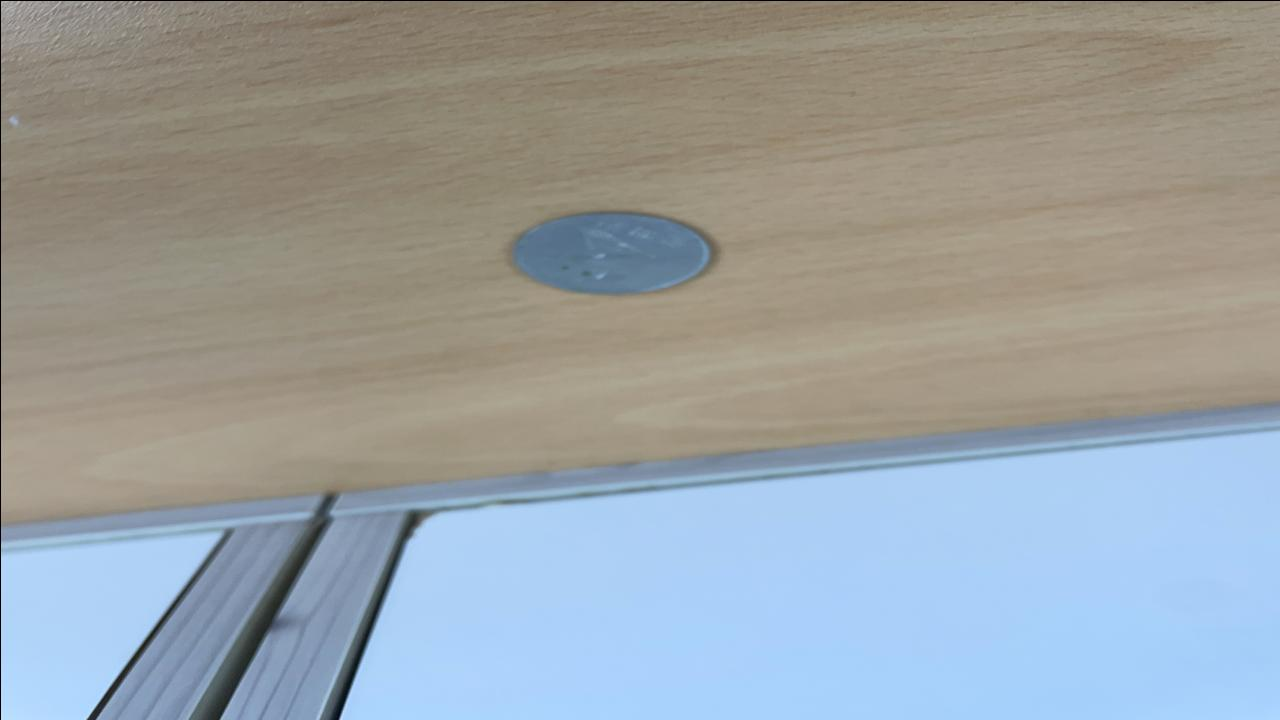coin: (499, 208, 720, 298)
